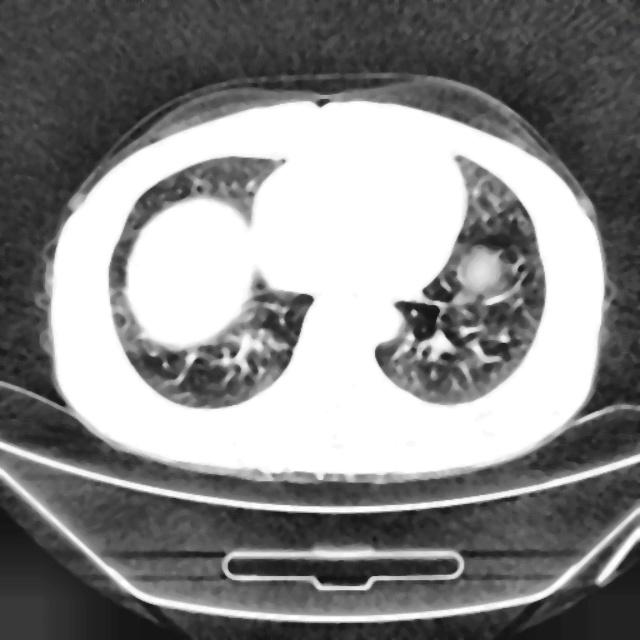covid: (43, 72, 608, 483)
